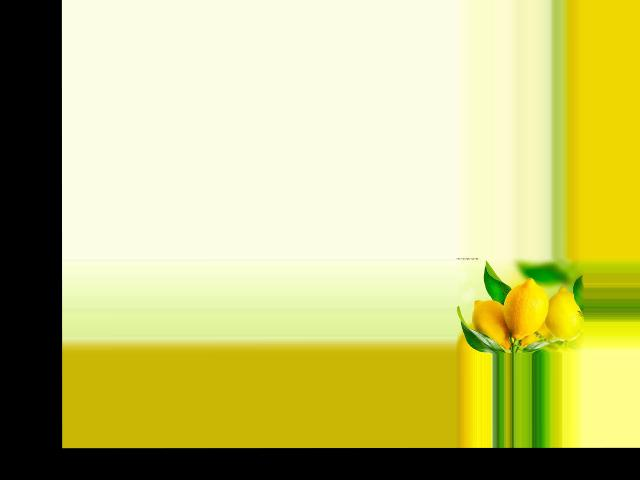lemon: (546, 284, 580, 344)
